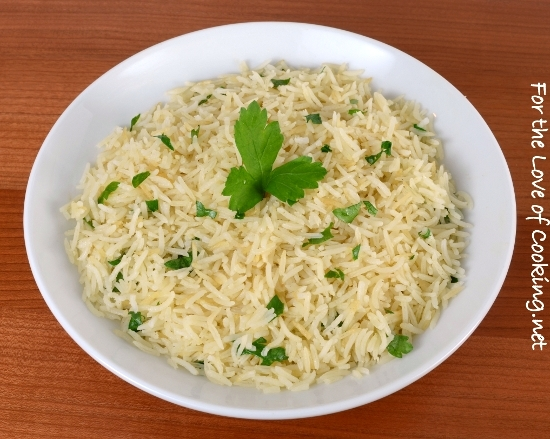plain rice: (139, 110, 435, 345)
